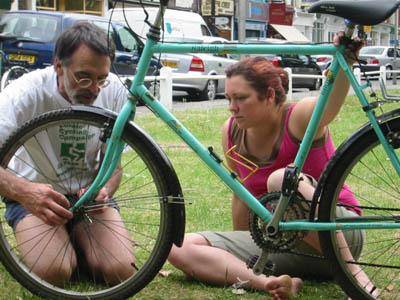person: (3, 18, 139, 289)
